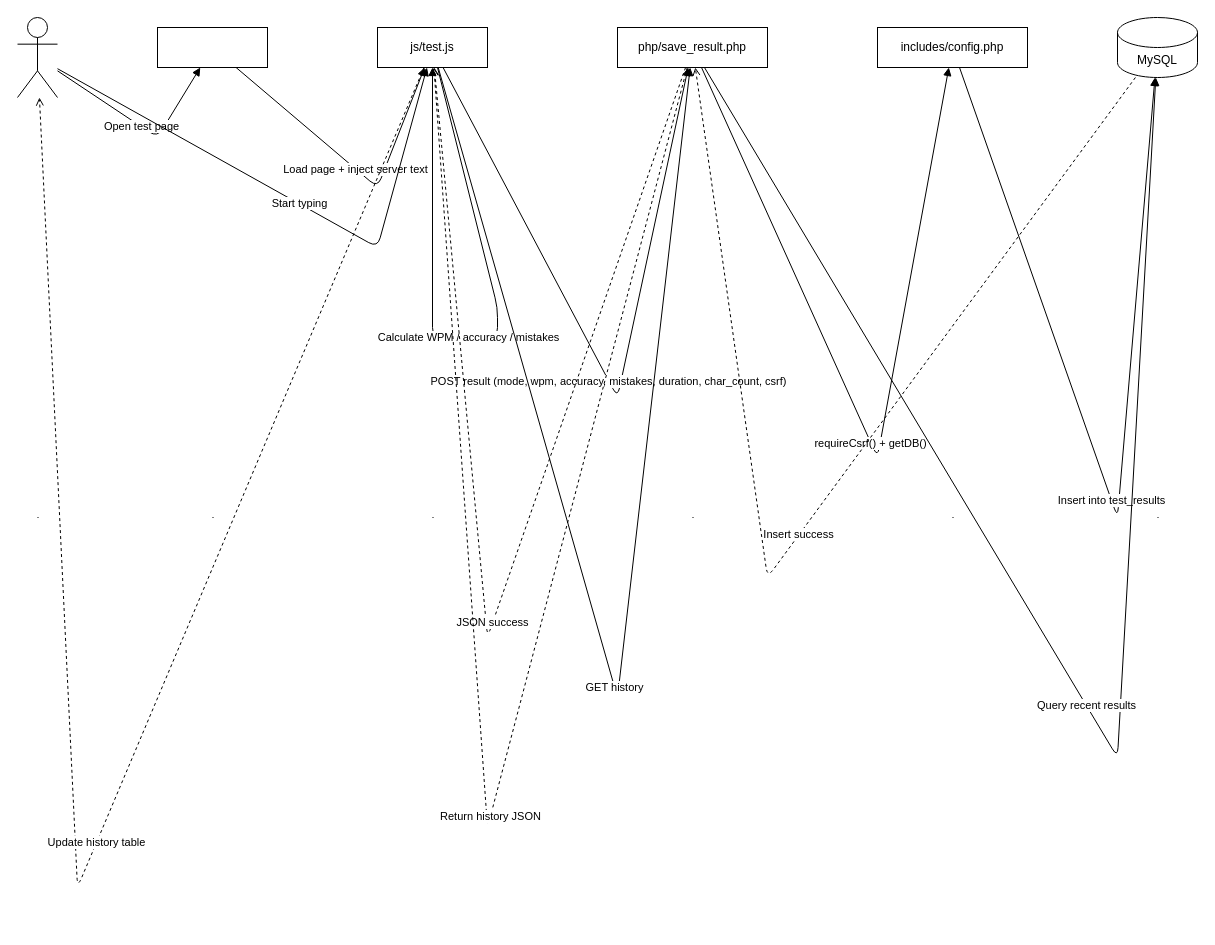
This 1215x945 diagram has some shape labels left out. Here are the shapes that lost their labels. From the top down, the centre of each, then its label:
At pixel 37 57: "User".
At pixel 212 47: "test.php".
